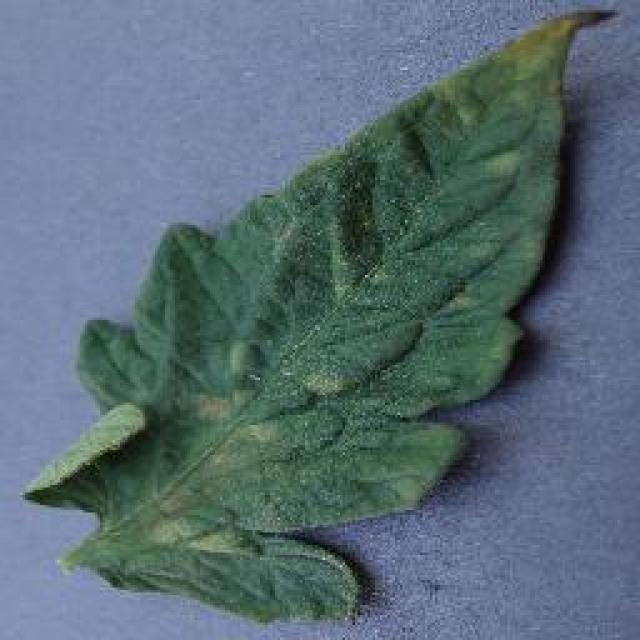Tom_Leaf_Mold: (135, 375, 303, 563), (463, 0, 598, 99)
